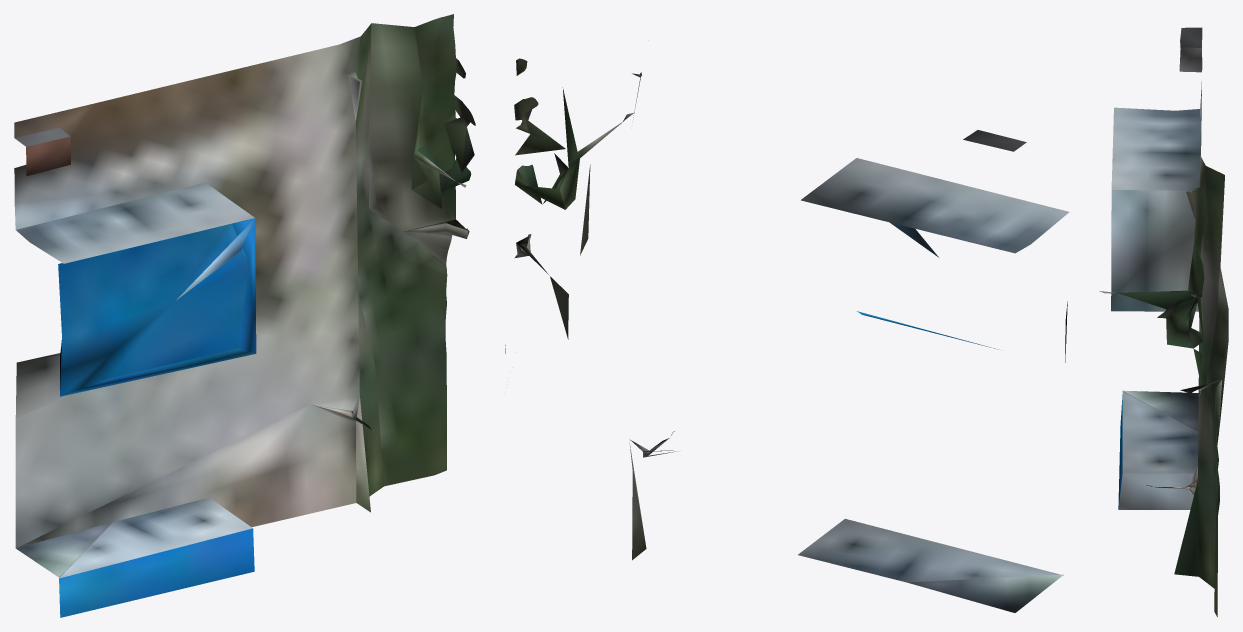
Rendered from Tile_+006_+009.glb.
3 renders of one model, left to right at view 1: azimuth 30°, elevation 25°; view 2: azimuth 150°, elevation 25°; view 3: azimuth 270°, elevation 25°, orthographic. The views are drawn at different scales.
Size of the model in its own units: 50.39 by 50.38 by 14.47.
Materials: 1 (1 with a texture image).
